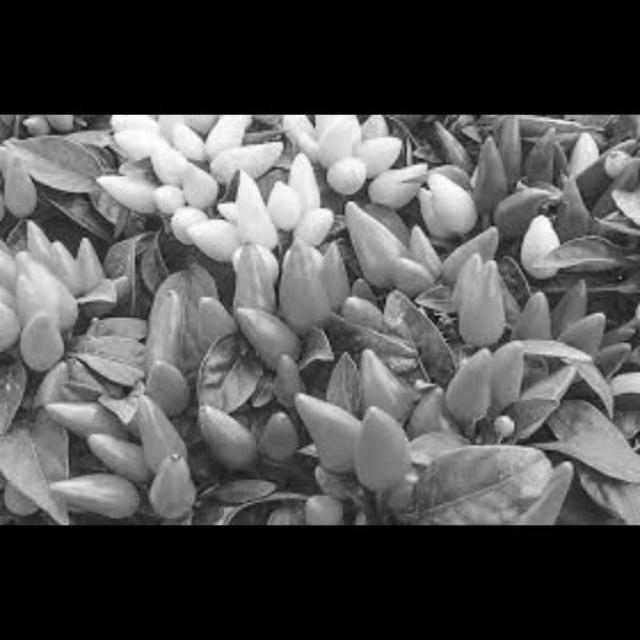hot pepper: (86, 114, 341, 257), (14, 341, 212, 524), (413, 113, 640, 262), (195, 232, 388, 389), (343, 326, 569, 455), (337, 190, 516, 334), (277, 113, 466, 226), (0, 210, 118, 377), (516, 269, 640, 396), (292, 378, 365, 481), (137, 278, 204, 381), (486, 455, 584, 524), (188, 396, 258, 476), (344, 404, 404, 495), (0, 133, 53, 230), (248, 399, 291, 462), (292, 478, 350, 522)
